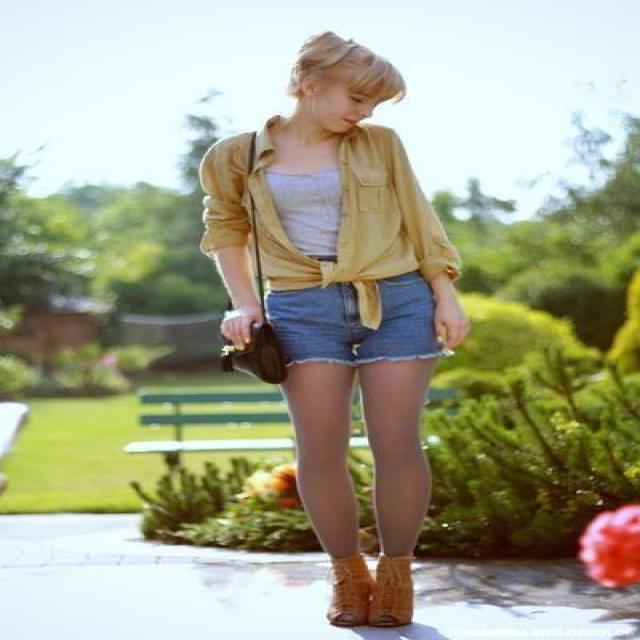bag: (242, 269, 304, 383)
shirt: (185, 126, 460, 328), (267, 168, 341, 255)
shoe: (331, 545, 432, 626)
shorts: (267, 270, 435, 366)
